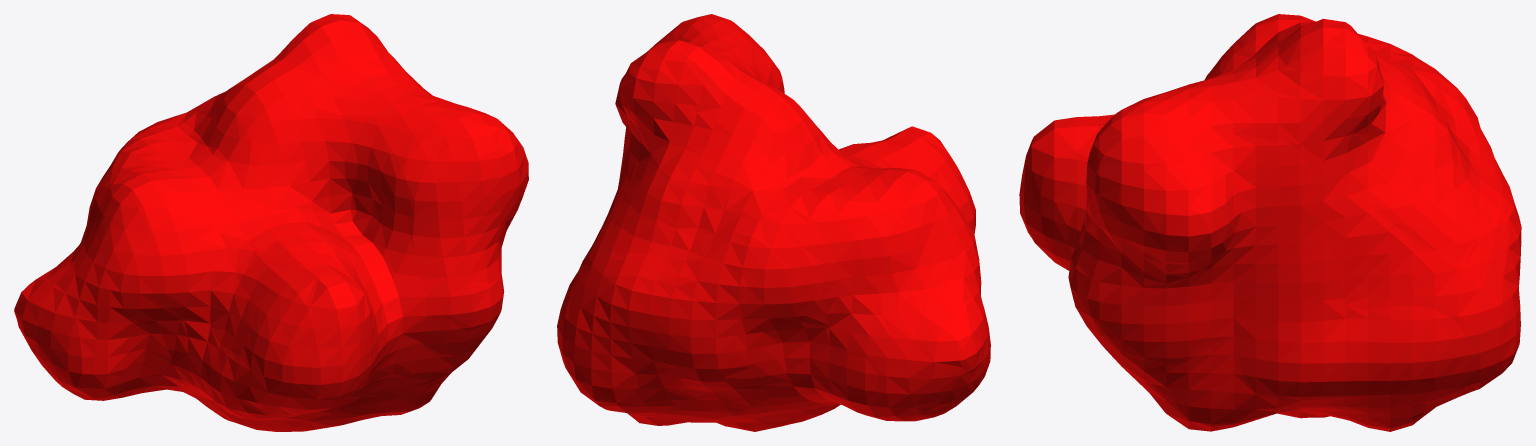
File: uspA_coarse.dae
3 renders of one model, left to right at view 1: azimuth 30°, elevation 25°; view 2: azimuth 150°, elevation 25°; view 3: azimuth 270°, elevation 25°, orthographic. The views are drawn at different scales.
Visible parts, largest first — view 1: uspA; view 2: uspA; view 3: uspA.
Part boxes in pixels (left/top/right/bottom): uspA: left=14, top=14, right=528, bottom=431; uspA: left=557, top=14, right=990, bottom=431; uspA: left=1019, top=14, right=1521, bottom=431.
Size of the model in its own units: 47.88 by 40.25 by 43.27.
